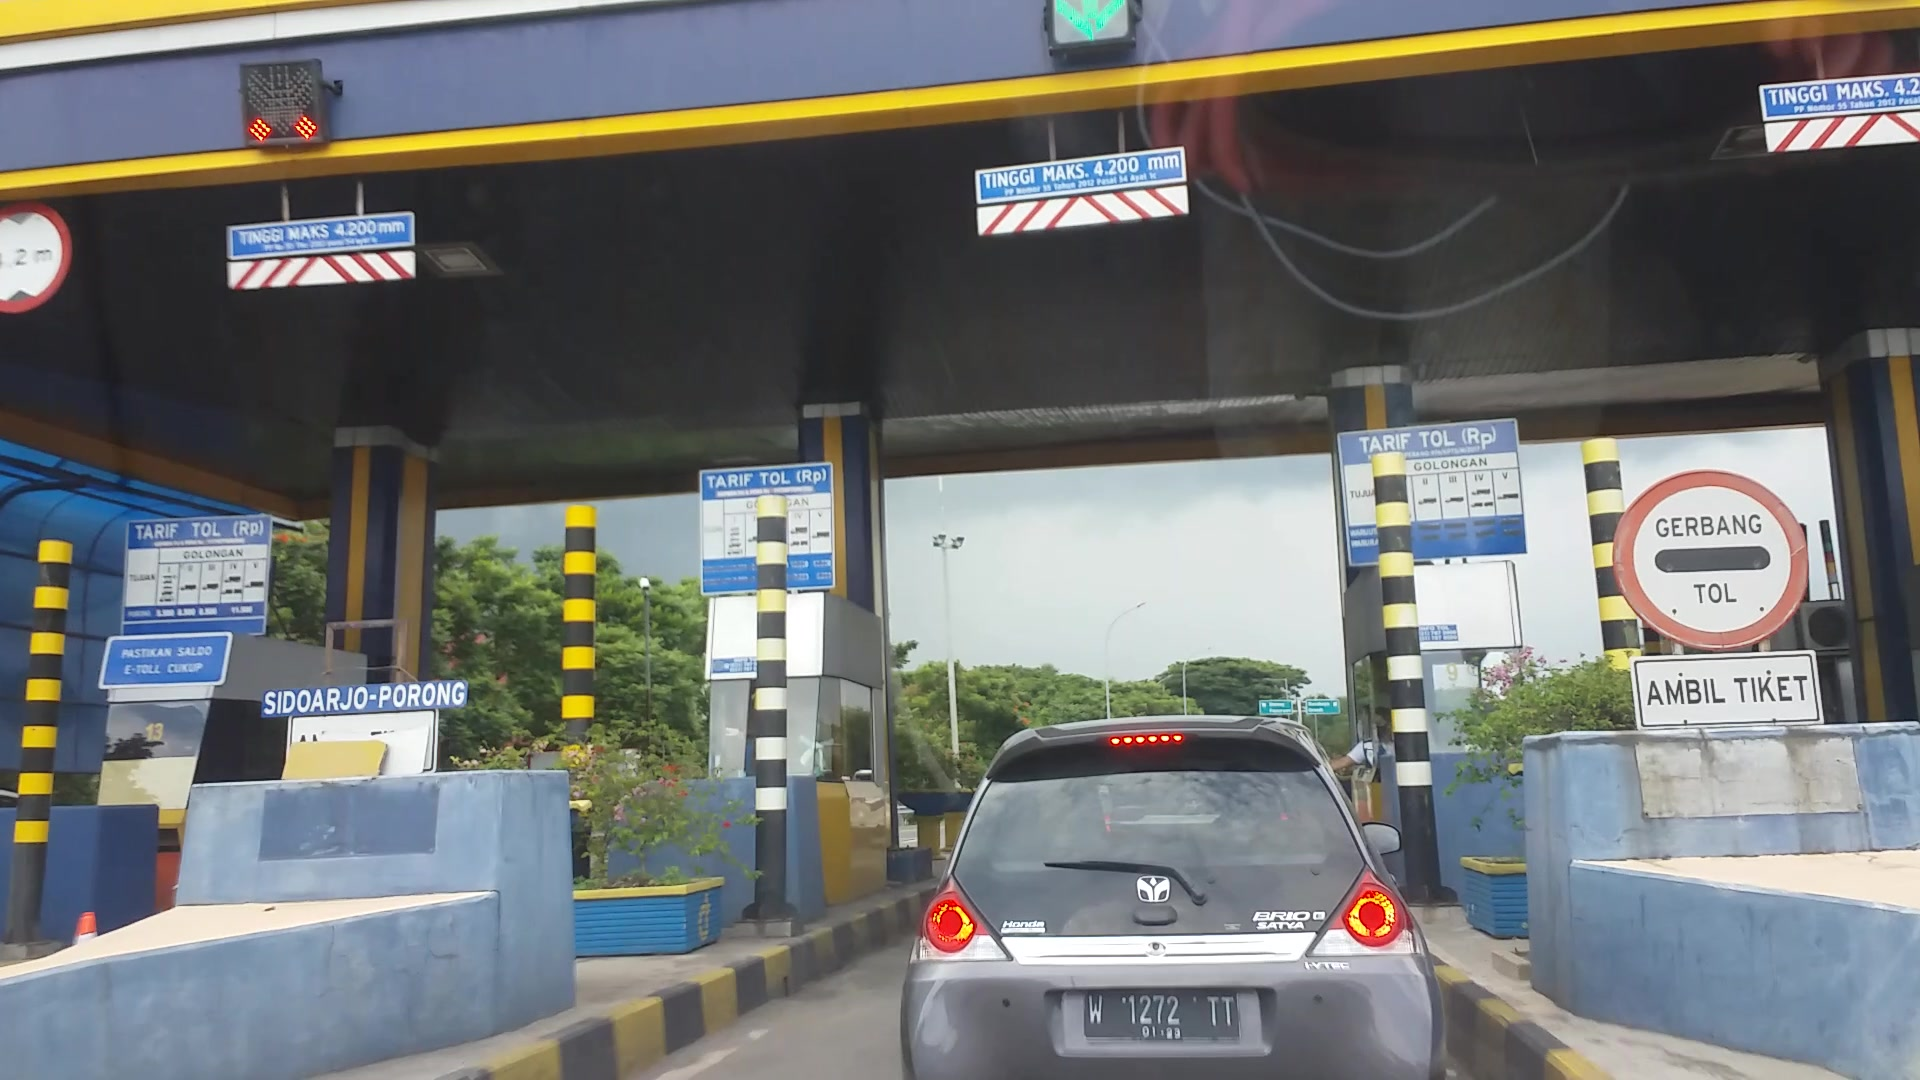plate_positive: (1084, 989, 1240, 1042)
